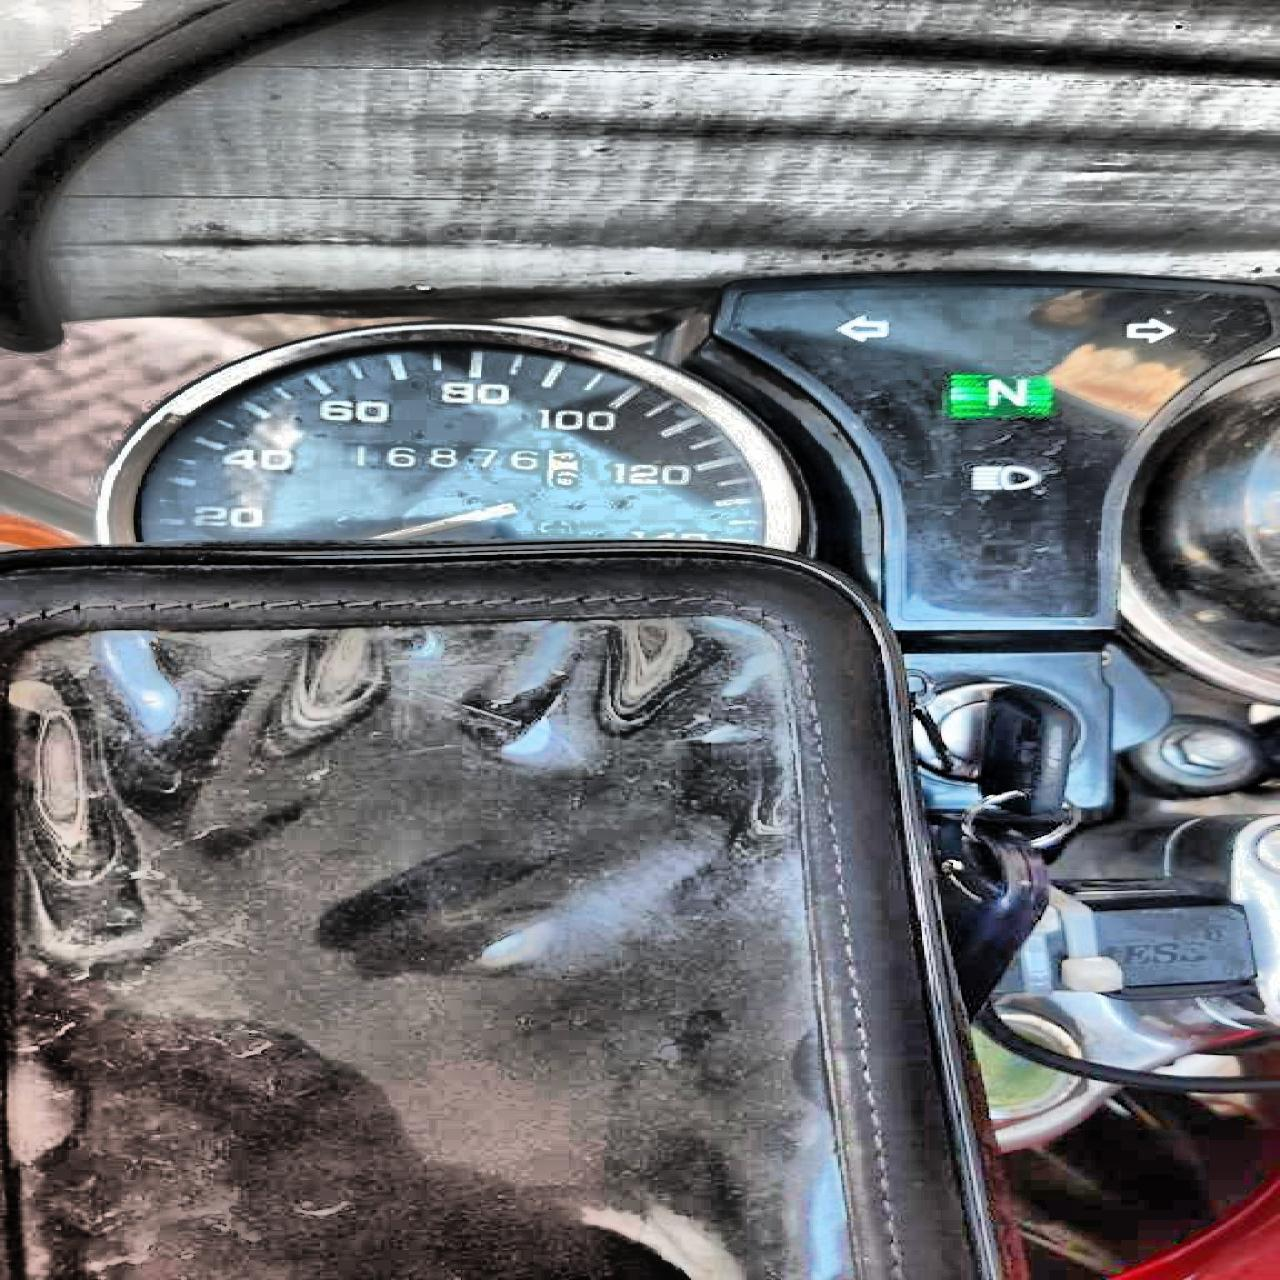1: (352, 444, 367, 467)
5: (551, 447, 578, 462)
6: (384, 445, 415, 467), (509, 449, 538, 469), (549, 468, 576, 486)
7: (469, 445, 498, 467)
8: (424, 445, 458, 467)
odometer: (335, 441, 583, 490)
